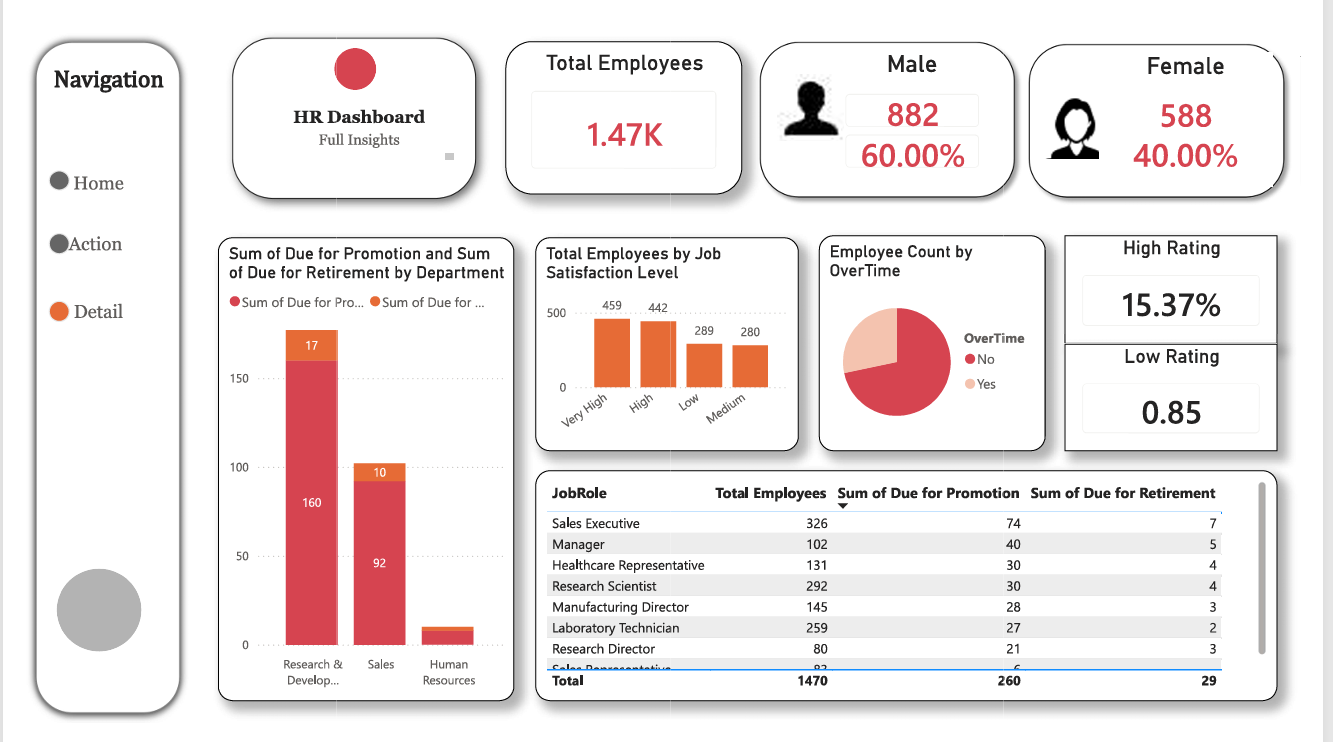

This screenshot's page, from the dashboard's own definition file:
{"tool":"powerbi","page":{"name":"Detail","canvas":[1280,720],"ordinal":2},"visuals":[{"type":"shape","box":[998.2,12.3,275.1,172.4],"z":0,"group":"g7"},{"type":"cardVisual","title":"Male","fields":{"Data":["in.Male","in.Male %"]},"box":[806.3,26.7,167.5,135.7],"z":0,"group":"g4"},{"type":"columnChart","fields":{"Category":["in.Department"],"Y":["Sum(in.Due for Promotion)","Sum(in.Due for Retirement)"]},"box":[192,215.2,298.4,465.9],"z":0},{"type":"shape","box":[192,0,273.9,190.8],"z":1000,"group":"g3"},{"type":"shape","box":[0,9.8,162.6,692.1],"z":1000,"group":"g1"},{"type":"image","box":[1023.1,68.6,64.5,72.7],"z":1000,"group":"g5"},{"type":"columnChart","fields":{"Category":["in.Job Satisfaction Level"],"Y":["in.Total Employees"]},"box":[511.1,215.2,265.4,215.2],"z":1000},{"type":"shape","box":[308.7,25.2,42.3,42],"z":2000,"group":"g3"},{"type":"textbox","title":"Navigation","box":[22,42.5,122.3,52.6],"z":2000,"group":"g1"},{"type":"pieChart","fields":{"Category":["in.OverTime"],"Y":["in.Employee Count"]},"box":[796.1,212.8,227.4,217.7],"z":2000},{"type":"cardVisual","title":"Female","fields":{"Data":["in.Female","in.Female %"]},"box":[1078,29.5,173.6,134.5],"z":3000,"group":"g5"},{"type":"textbox","title":"HR Dashboard","box":[231.1,83.1,204.2,59.9],"z":3000,"group":"g3"},{"type":"actionButton","box":[22.2,139.4,100.2,40.7],"z":3000,"group":"g1"},{"type":"cardVisual","title":"High Rating","fields":{"Data":["in.High Rating %"]},"box":[1043.1,212.8,214,108.8],"z":3000},{"type":"shape","box":[728,10,273.9,173.6],"z":4000,"group":"g6"},{"type":"shape","box":[22.2,147.8,20.6,19.7],"z":4000,"group":"g1"},{"type":"cardVisual","title":"Low Rating","fields":{"Data":["in.Low Rating %"]},"box":[1043.1,321.6,214,108.8],"z":4000},{"type":"actionButton","box":[10,201.2,118,40.7],"z":5000,"group":"g1"},{"type":"tableEx","fields":{"Values":["in.JobRole","in.Total Employees","Sum(in.Due for Promotion)","Sum(in.Due for Retirement)"]},"box":[511.1,448.8,745.9,232.3],"z":5000},{"type":"image","box":[755.1,33.8,67.2,101.5],"z":5003,"group":"g4"},{"type":"group","id":"g1","title":"Group 1","box":[0,9.8,162.6,692.1],"z":6000},{"type":"actionButton","box":[22.2,268.7,100.2,40.7],"z":6000,"group":"g1"},{"type":"group","id":"g2","title":"Group 2","box":[192,0,273.9,190.8],"z":7000},{"type":"shape","box":[22.2,211.1,20.6,21.1],"z":7000,"group":"g1"},{"type":"group","id":"g3","title":"Group 7","box":[192,0,273.9,190.8],"z":7001,"group":"g2"},{"type":"group","id":"g4","title":"Group 3","box":[755.1,26.7,218.7,135.7],"z":7001,"group":"g6"},{"type":"group","id":"g5","title":"Group 5","box":[1023.1,29.5,228.6,134.5],"z":7003,"group":"g7"},{"type":"cardVisual","title":"Total Employees","fields":{"Data":["CountNonNull(in.EmployeeCount)"]},"box":[480.6,18.3,238.5,154.1],"z":8000},{"type":"shape","box":[22.2,278.5,20.6,21.1],"z":8000,"group":"g1"},{"type":"group","id":"g6","title":"Group 4","box":[728,10,273.9,173.6],"z":9000},{"type":"shape","box":[30.4,548.2,85.1,82.9],"z":9000,"group":"g1"},{"type":"group","id":"g7","title":"Group 6","box":[998.2,12.3,275.1,172.4],"z":10000}]}

Visuals, with their boxes in screenshot pixels (x1, y1, x2, y2), scaled from the page's 1280x720 canvas onto the 1333x742 screenshot:
shape: (left=1040, top=13, right=1326, bottom=190)
"Male" cardVisual: (left=840, top=28, right=1014, bottom=167)
columnChart - in.Department x Sum(in.Due for Promotion): (left=200, top=222, right=511, bottom=702)
shape: (left=200, top=0, right=485, bottom=197)
shape: (left=0, top=10, right=169, bottom=723)
image: (left=1065, top=71, right=1133, bottom=146)
columnChart - in.Job Satisfaction Level x in.Total Employees: (left=532, top=222, right=809, bottom=444)
shape: (left=321, top=26, right=366, bottom=69)
"Navigation" textbox: (left=23, top=44, right=150, bottom=98)
pieChart - in.OverTime x in.Employee Count: (left=829, top=219, right=1066, bottom=444)
"Female" cardVisual: (left=1123, top=30, right=1303, bottom=169)
"HR Dashboard" textbox: (left=241, top=86, right=453, bottom=147)
actionButton: (left=23, top=144, right=127, bottom=186)
"High Rating" cardVisual: (left=1086, top=219, right=1309, bottom=331)
shape: (left=758, top=10, right=1043, bottom=189)
shape: (left=23, top=152, right=45, bottom=173)
"Low Rating" cardVisual: (left=1086, top=331, right=1309, bottom=444)
actionButton: (left=10, top=207, right=133, bottom=249)
tableEx - in.JobRole x in.Total Employees: (left=532, top=463, right=1309, bottom=702)
image: (left=786, top=35, right=856, bottom=139)
"Group 1" group: (left=0, top=10, right=169, bottom=723)
actionButton: (left=23, top=277, right=127, bottom=319)
"Group 2" group: (left=200, top=0, right=485, bottom=197)
shape: (left=23, top=218, right=45, bottom=239)
"Group 7" group: (left=200, top=0, right=485, bottom=197)
"Group 3" group: (left=786, top=28, right=1014, bottom=167)
"Group 5" group: (left=1065, top=30, right=1304, bottom=169)
"Total Employees" cardVisual: (left=500, top=19, right=749, bottom=178)
shape: (left=23, top=287, right=45, bottom=309)
"Group 4" group: (left=758, top=10, right=1043, bottom=189)
shape: (left=32, top=565, right=120, bottom=650)
"Group 6" group: (left=1040, top=13, right=1326, bottom=190)
